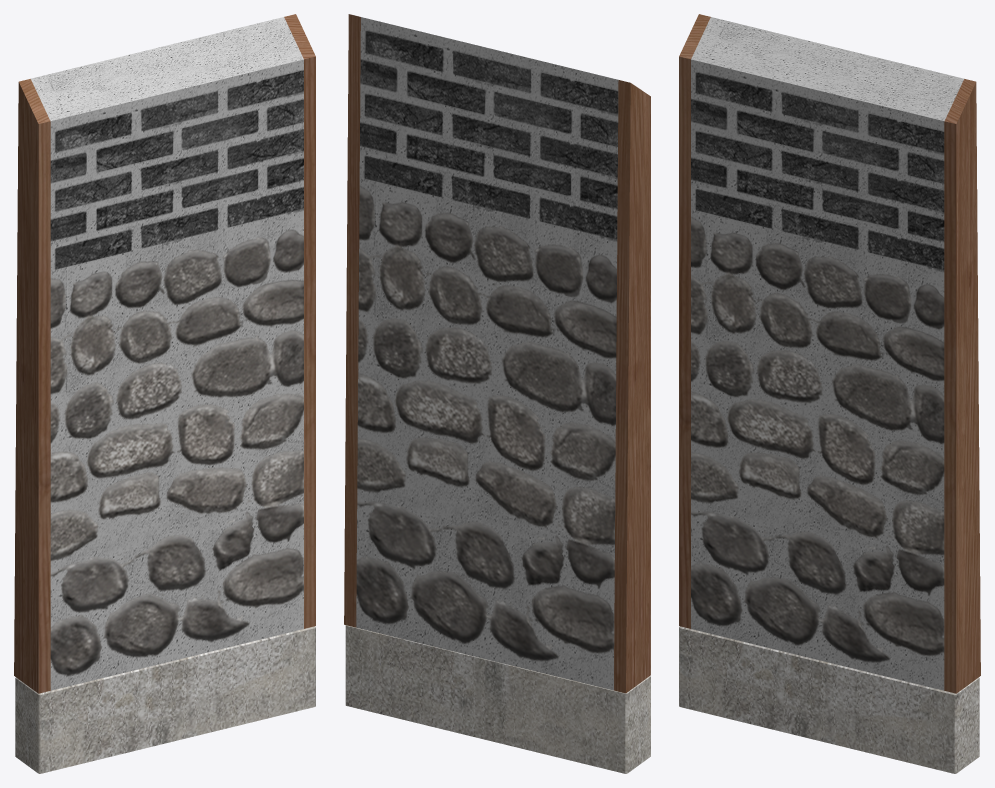
Rendered from SM_Baeryeom_Wall_C3.fbx.
3 renders of one model, left to right at view 1: azimuth 30°, elevation 25°; view 2: azimuth 150°, elevation 25°; view 3: azimuth 330°, elevation 25°, orthographic.
Parts seen in each view (by area): view 1: SM_Baeryeom_Wall_C3; view 2: SM_Baeryeom_Wall_C3; view 3: SM_Baeryeom_Wall_C3.
Boxes of the visible parts, x1=… form: SM_Baeryeom_Wall_C3: x1=14, y1=14, x2=315, y2=773; SM_Baeryeom_Wall_C3: x1=344, y1=14, x2=650, y2=773; SM_Baeryeom_Wall_C3: x1=679, y1=14, x2=980, y2=773.
Size of the model in its own units: 69.53 by 162 by 10.94.
